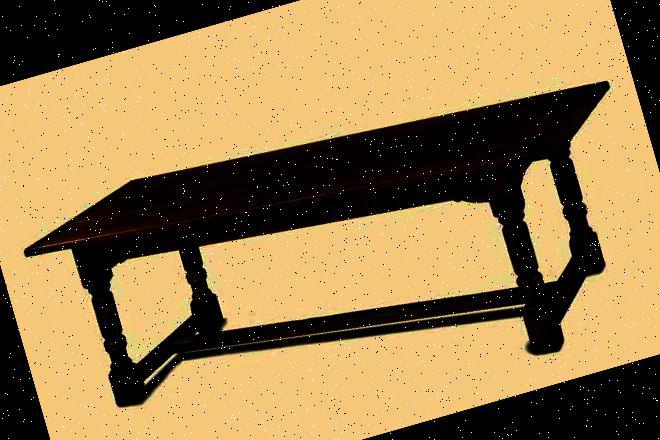Mesa: (16, 49, 659, 439)
